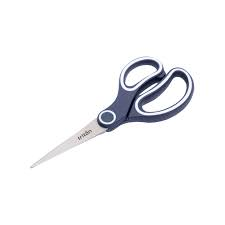tihiras: (17, 52, 198, 172)
